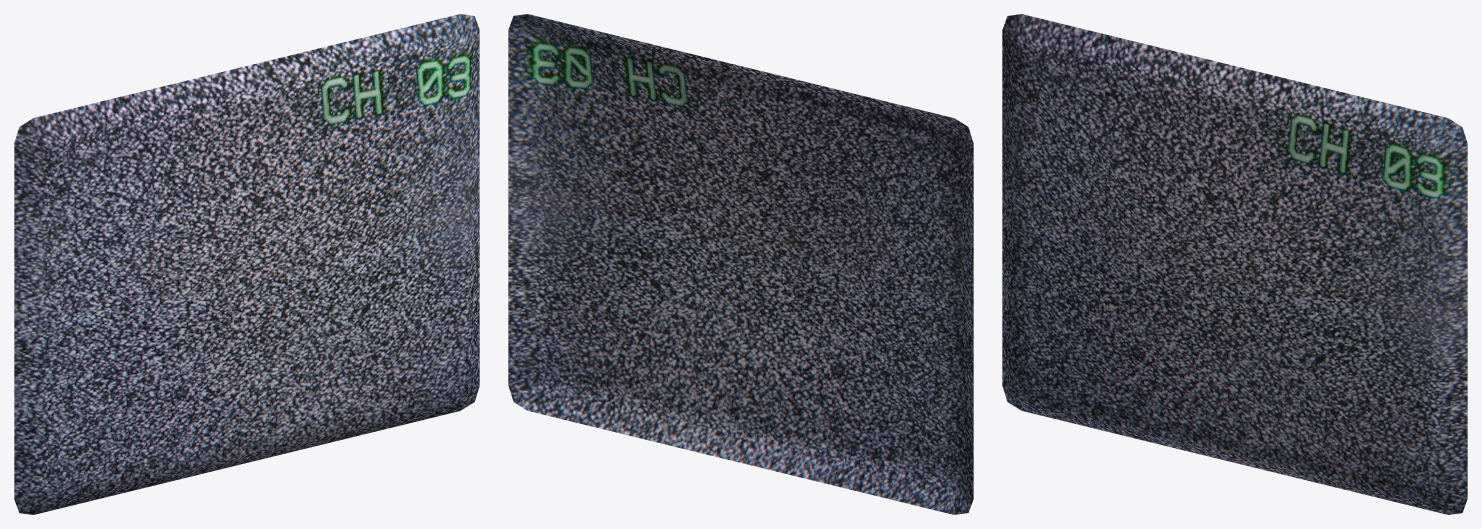
File: ScreenStatic.FBX
3 views of the same model, side by side, from view 1: azimuth 30°, elevation 25°; view 2: azimuth 150°, elevation 25°; view 3: azimuth 330°, elevation 25° (orthographic).
Parts seen in each view (by area): view 1: ScreenStatic; view 2: ScreenStatic; view 3: ScreenStatic.
Boxes of the visible parts, left/top/right/bottom form: ScreenStatic: left=14, top=14, right=479, bottom=514; ScreenStatic: left=508, top=14, right=973, bottom=514; ScreenStatic: left=1002, top=14, right=1467, bottom=514.
Size of the model in its own units: 53.03 by 43.23 by 3.74.
1 material, 1 textured.
